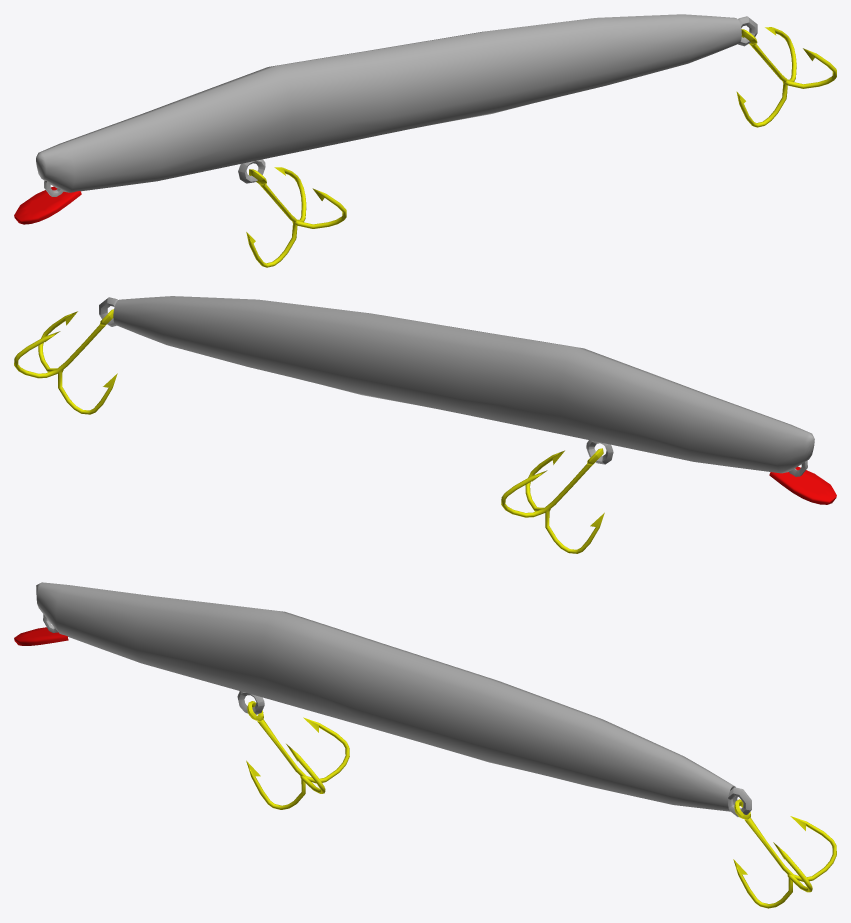
Rendered from Minor.fbx.
3 renders of one model, top to bottom at view 1: azimuth 30°, elevation 25°; view 2: azimuth 150°, elevation 25°; view 3: azimuth 330°, elevation 25°, orthographic.
Parts seen in each view (by area): view 1: polySurface402; view 2: polySurface402; view 3: polySurface402.
Part boxes in pixels (<box>): polySurface402: <box>14,14,836,267</box>; polySurface402: <box>14,296,836,553</box>; polySurface402: <box>14,582,836,908</box>.
Size of the model in its own units: 2.67 by 0.643 by 0.2413.
